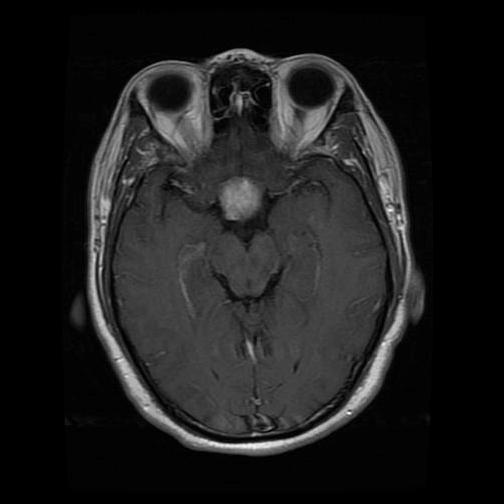Tumour-Pituitary: (212, 172, 275, 234)
